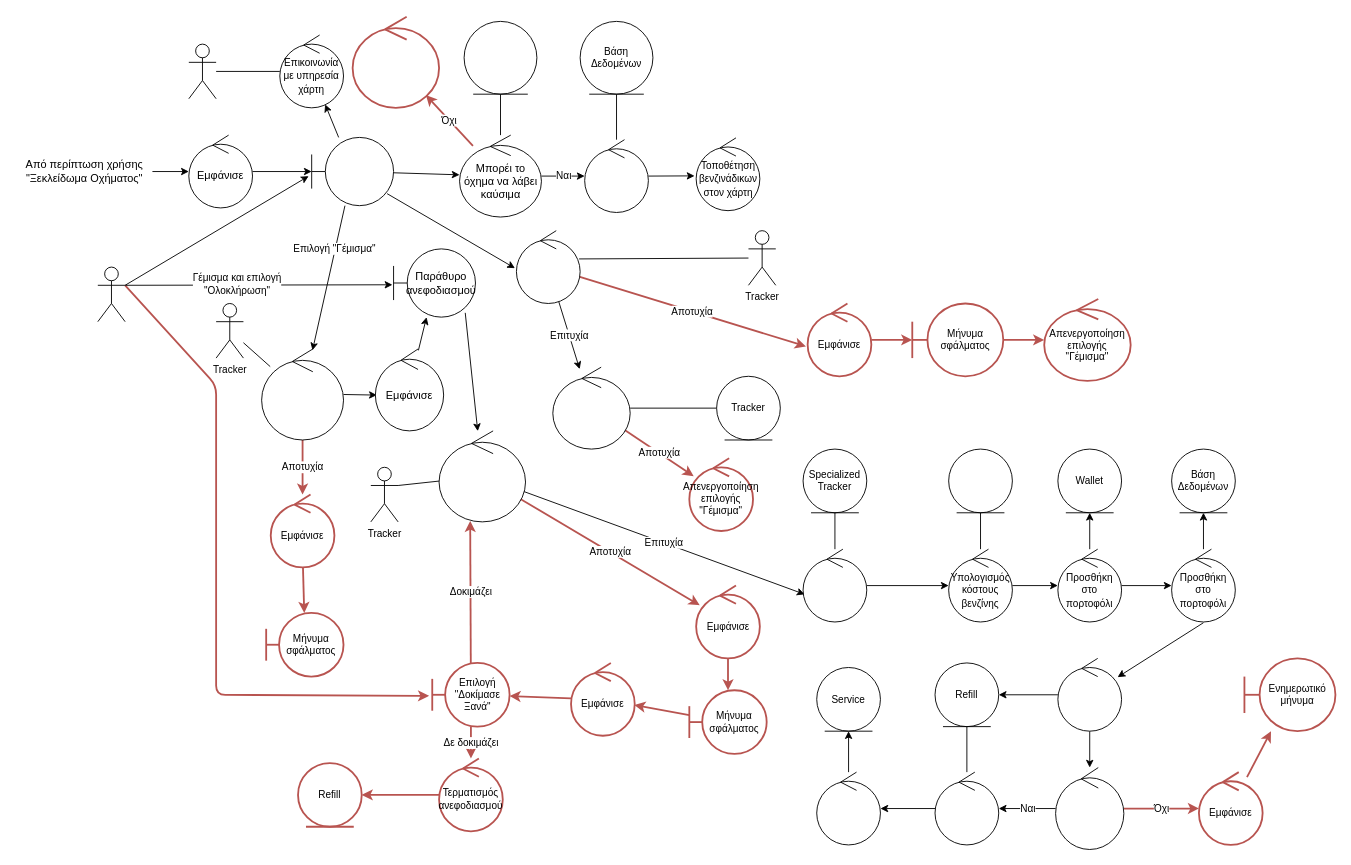
Image size: 1351x865. Some labels were removed from this diagram. Each missing label, with the centre of its shape:
Gas Station: pixel 980 480
Rental: pixel 500 57
Ανάκτηση βενζινάδικων: pixel 616 175
Αναζήτηση πλησιέστερου βενζινάδικου: pixel 591 407
Απόκρυψη βενζινάδικων και επιλογής ανεφοδιασμού: pixel 395 61
Βενζίνη πάνω από κατώφλι;: pixel 1089 808
Δημιουργία αντικειμένου: pixel 1089 694
Επικοινωνία με tracker για αρχικό επίπεδο βενζίνης: pixel 302 394
Επικοινωνία με tracker για τελικό επίπεδο βενζίνης: pixel 482 476
Επικοινωνία με tracker για τοποθεσία: pixel 548 266
Οθόνη μετακίνησης: pixel 352 171
Πελάτης: pixel 111 294
Προσθήκη πόντων: pixel 848 808
Υπηρεσία χάρτη: pixel 202 71
Υπολογισμός βενζίνης: pixel 834 585
Υπολογισμός πόντων: pixel 966 808
